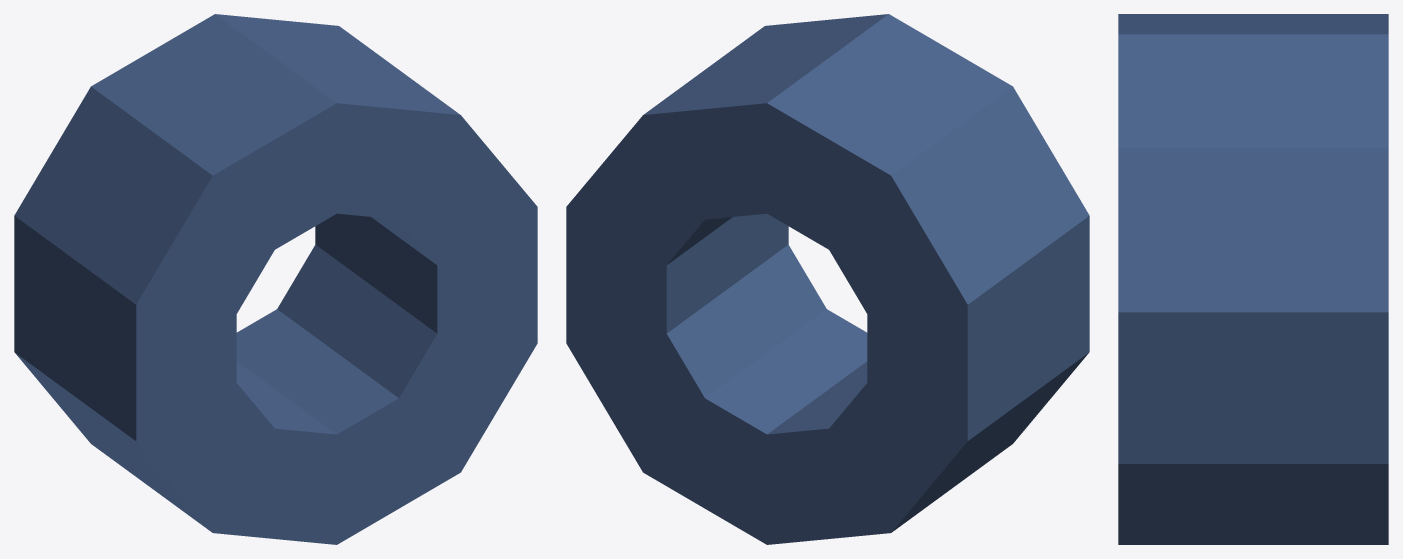
File: wheel1.glb
The picture shows the model from 3 angles, left to right: view 1: azimuth 30°, elevation 25°; view 2: azimuth 150°, elevation 25°; view 3: azimuth 270°, elevation 25°; orthographic projection. The views are drawn at different scales.
Parts seen in each view (by area): view 1: Mesh_Mesh_head_geo.001_lambert2SG.001; view 2: Mesh_Mesh_head_geo.001_lambert2SG.001; view 3: Mesh_Mesh_head_geo.001_lambert2SG.001.
Boxes of the visible parts, x1,y1,x2,y2 form: Mesh_Mesh_head_geo.001_lambert2SG.001: [14, 14, 537, 544]; Mesh_Mesh_head_geo.001_lambert2SG.001: [566, 14, 1089, 544]; Mesh_Mesh_head_geo.001_lambert2SG.001: [1118, 14, 1388, 544].
Size of the model in its own units: 0.0038 by 0.004 by 0.002.
